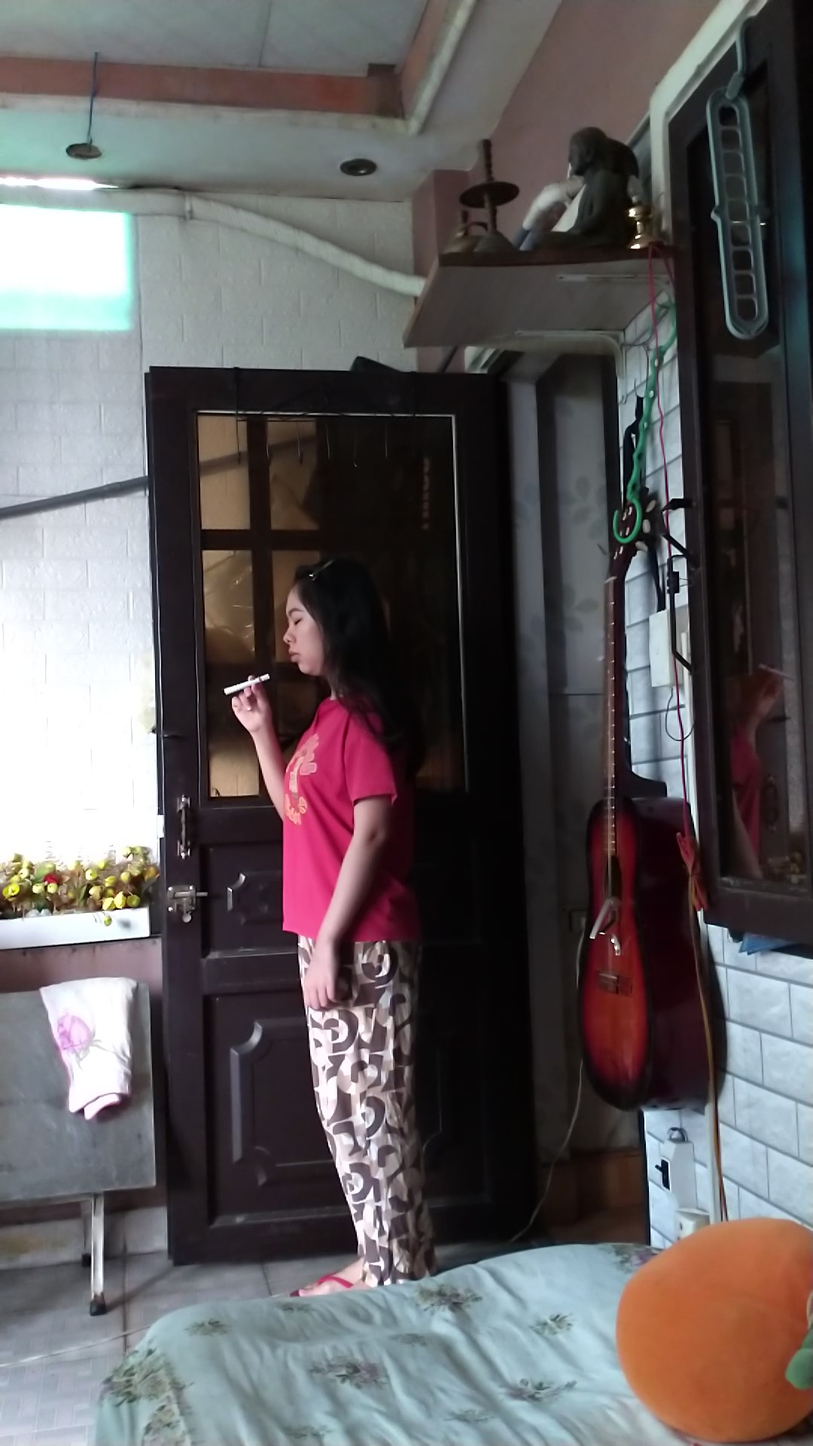cigarette: (219, 671, 273, 697)
person: (225, 551, 433, 1280)
